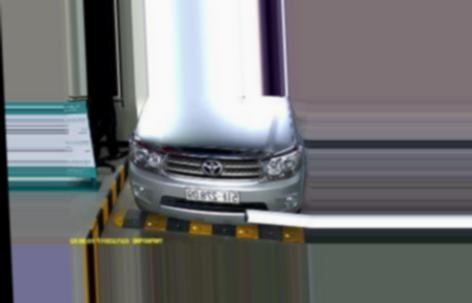License_Plate: (185, 188, 240, 202)
